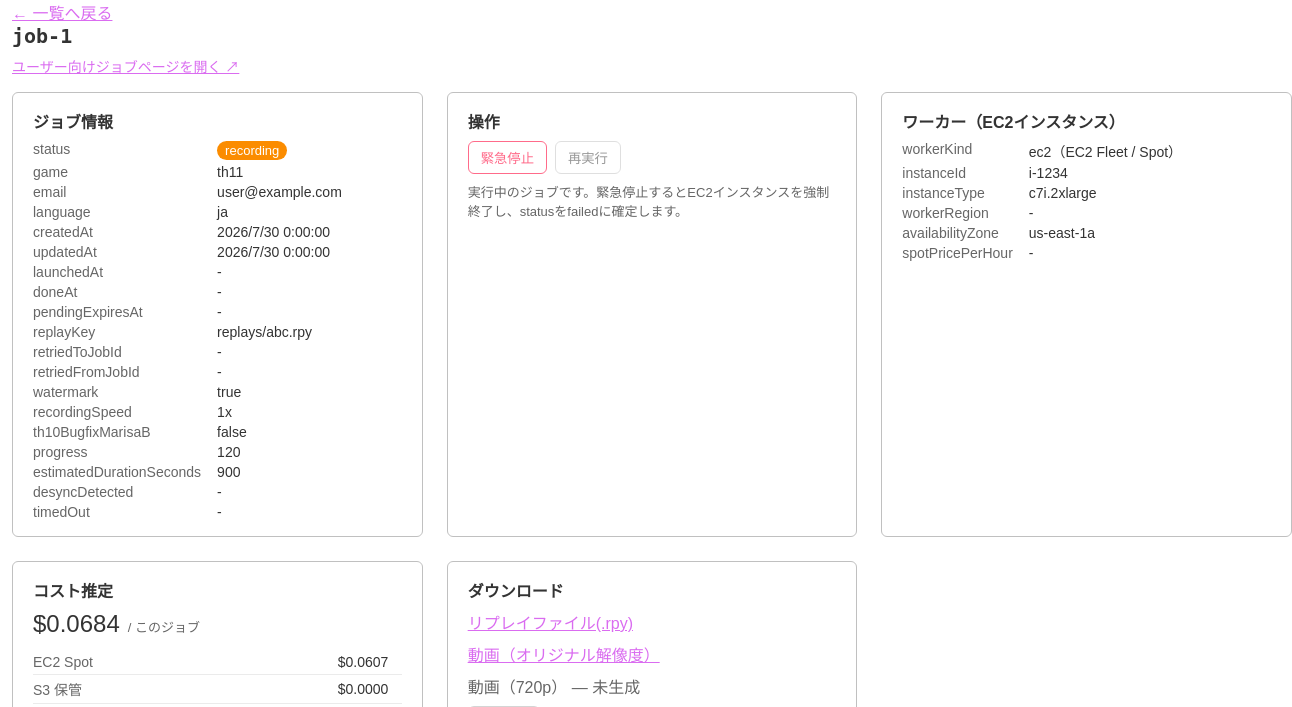
Scenario: JobDetailPage › 操作パネル(Issue #59) › 失敗時はエラーメッセージを表示する
This screenshot has width=1292, height=707.
Step 1. Click the button "緊急停止" → (507, 158), box [468,141,547,174]
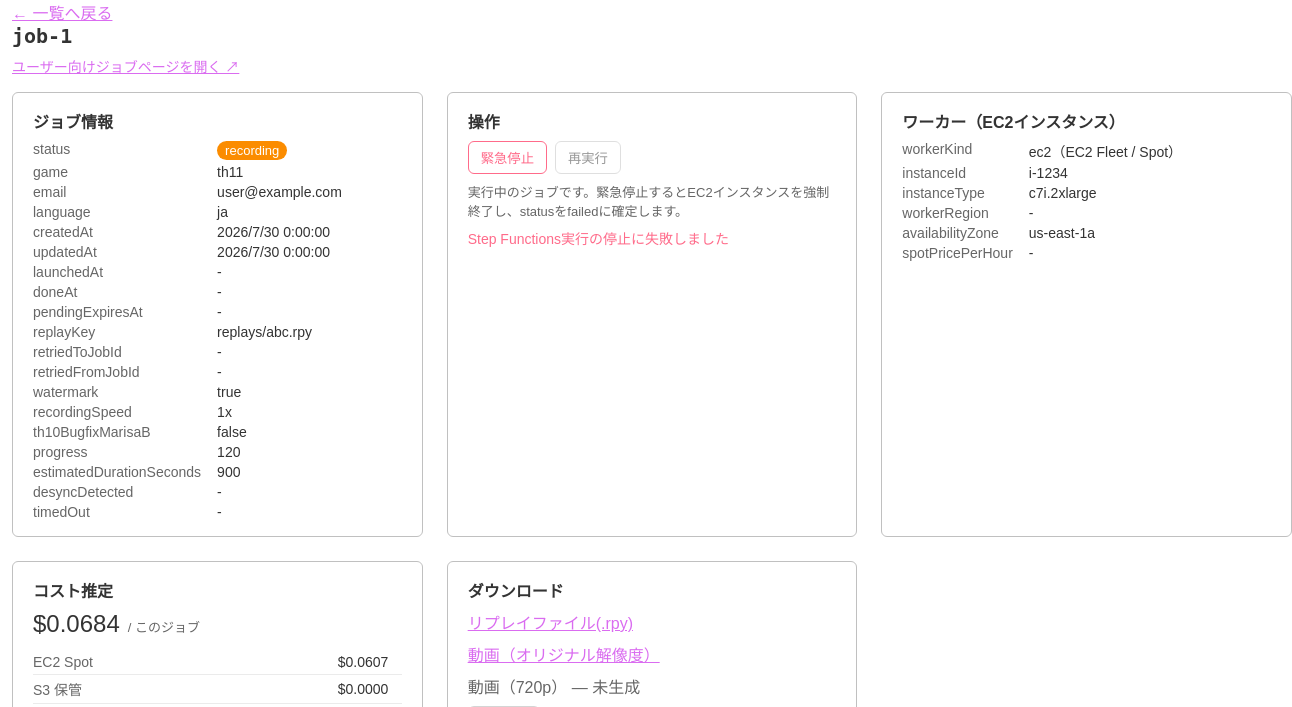
expect the text "Step Functions実行の停止に失敗しました" is shown: met, box [468,231,729,247]
